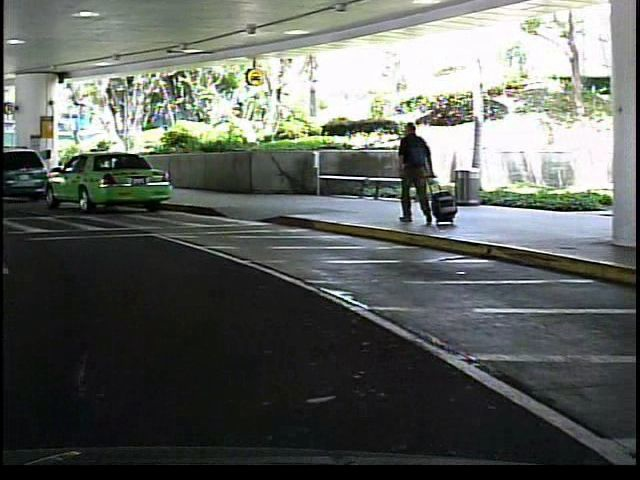person: (386, 111, 434, 233)
